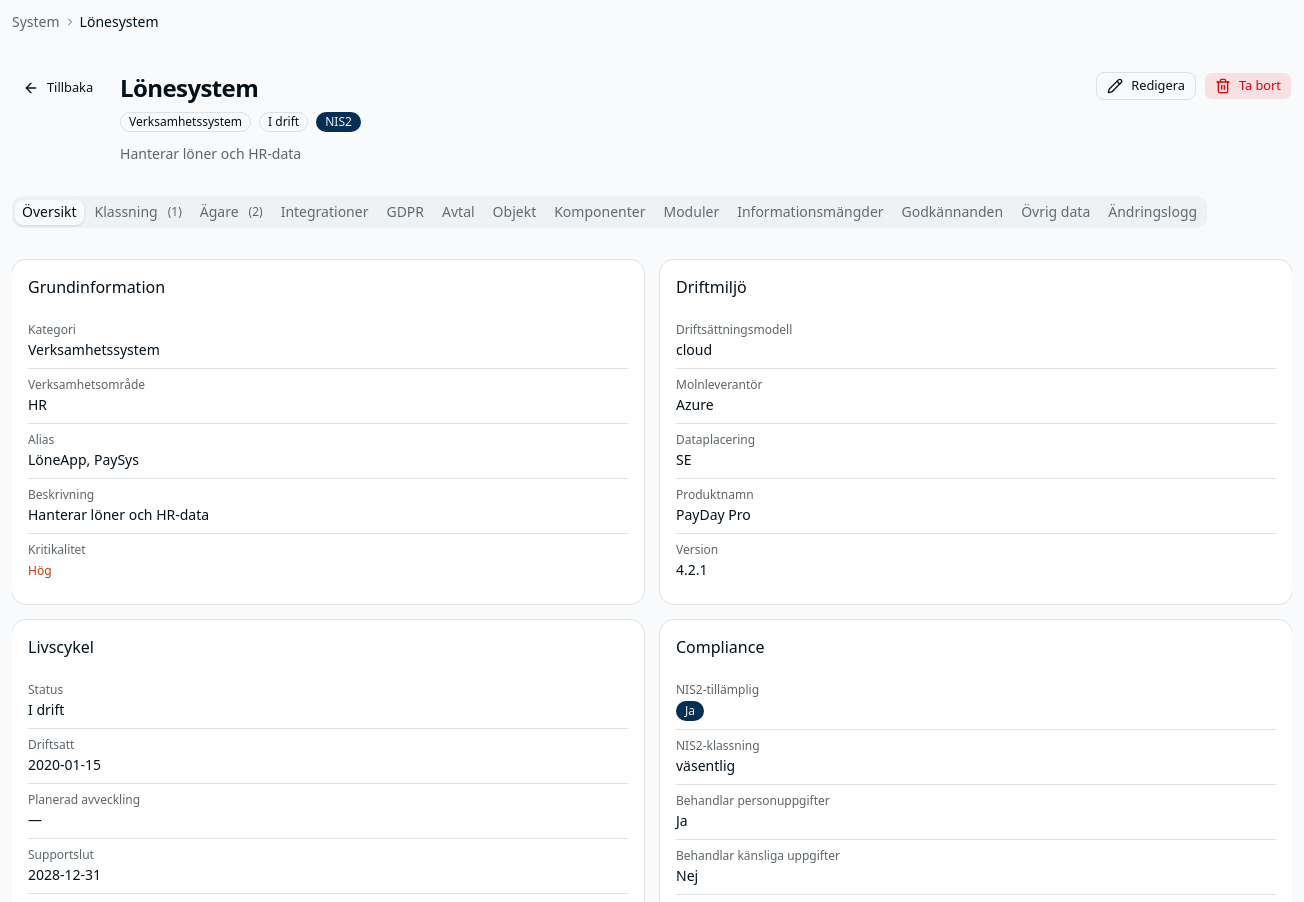
Scenario: SystemDetailPage › Ägare-tab › visar ägarens namn
The width and height of the screenshot is (1304, 902).
Click the tab "Ägare (2)" at (231, 212), box [193,200,270,224]
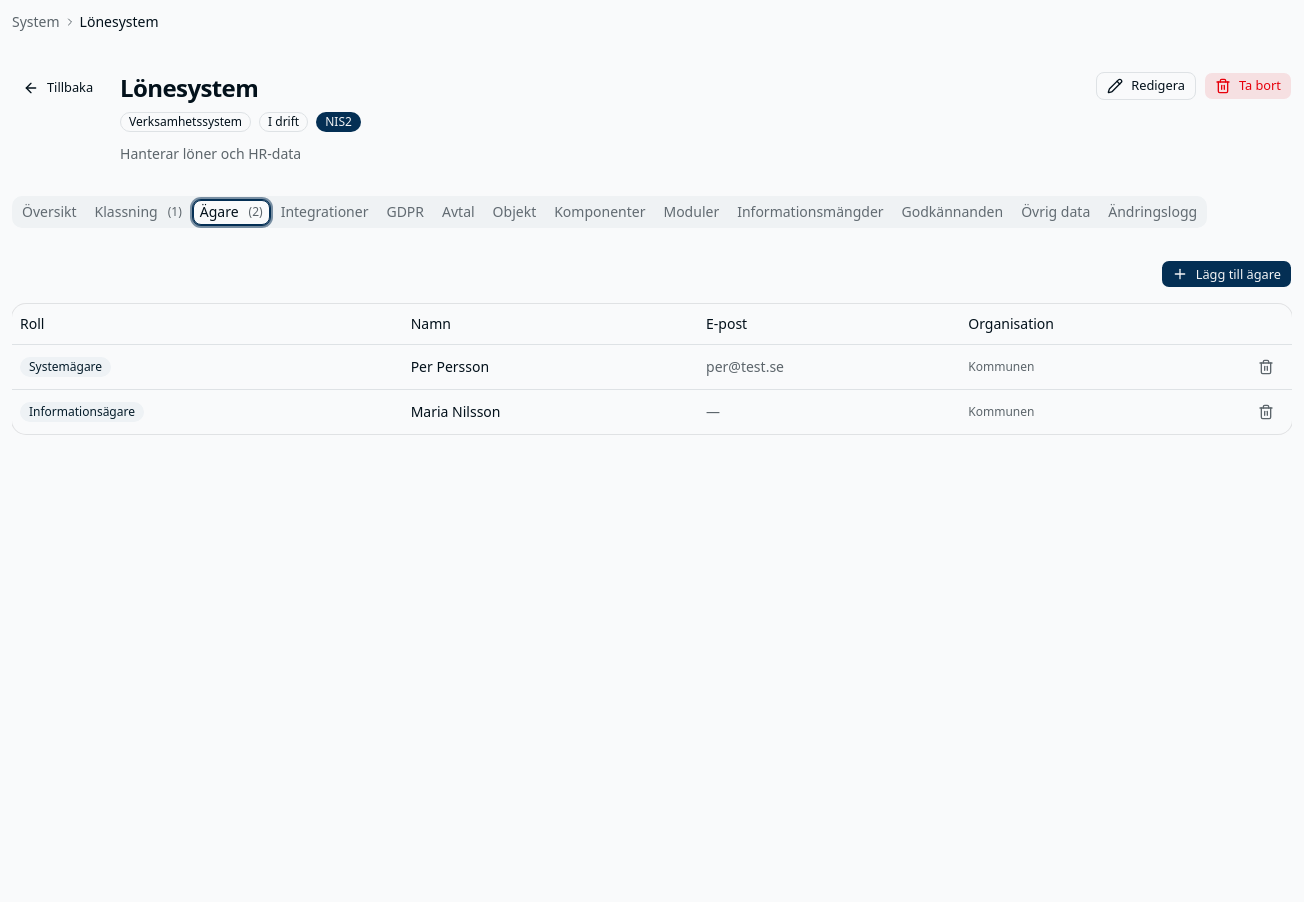
expect the text "Per Persson" is shown: met, box [403,344,698,389]
expect the text "Maria Nilsson" is shown: met, box [403,389,698,434]
